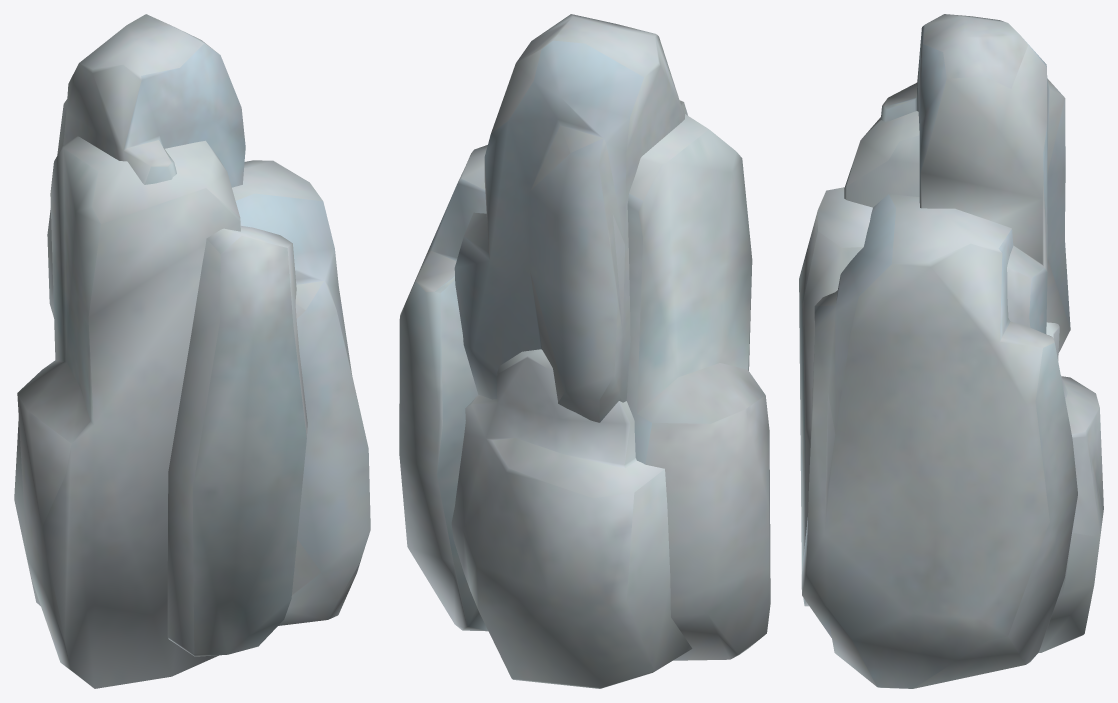
Rendered from P_RockSpire_RockClumpB07.obj.
The picture shows the model from 3 angles, left to right: view 1: azimuth 30°, elevation 25°; view 2: azimuth 150°, elevation 25°; view 3: azimuth 270°, elevation 25°; orthographic projection. The views are drawn at different scales.
Bounding box in the file's own units: 11.71 × 21.75 × 9.82.
